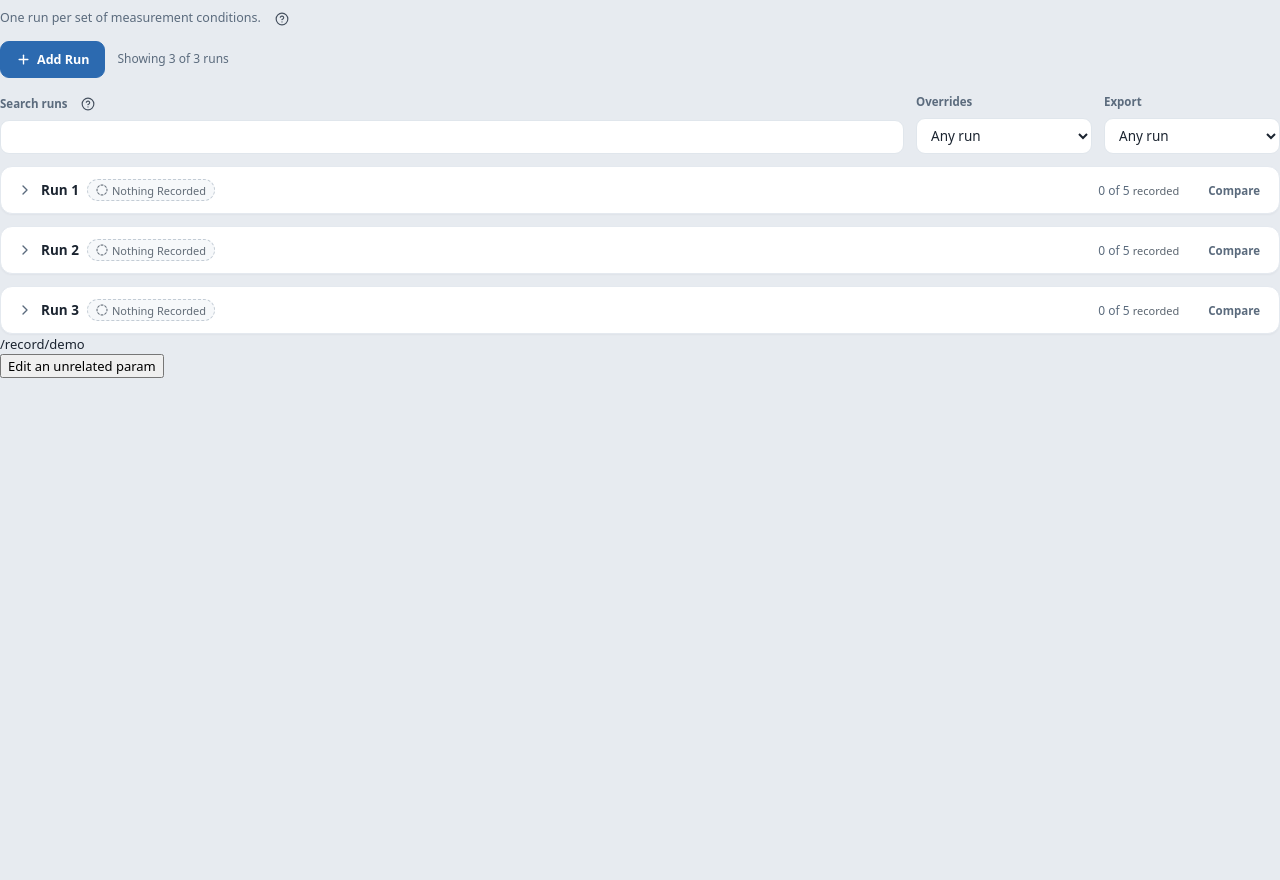
Test case: the request › removes the card, re-reads the list, and announces the SERVER’s count
Expected: the text "Showing 3 of 3 runs" is shown, [117,50,229,69]
What coordinates should you click on to do the following:
click the button named "Open "
I would click on:
 (33, 259)
Its box is [1,227,1195,273].
(page scrolled)
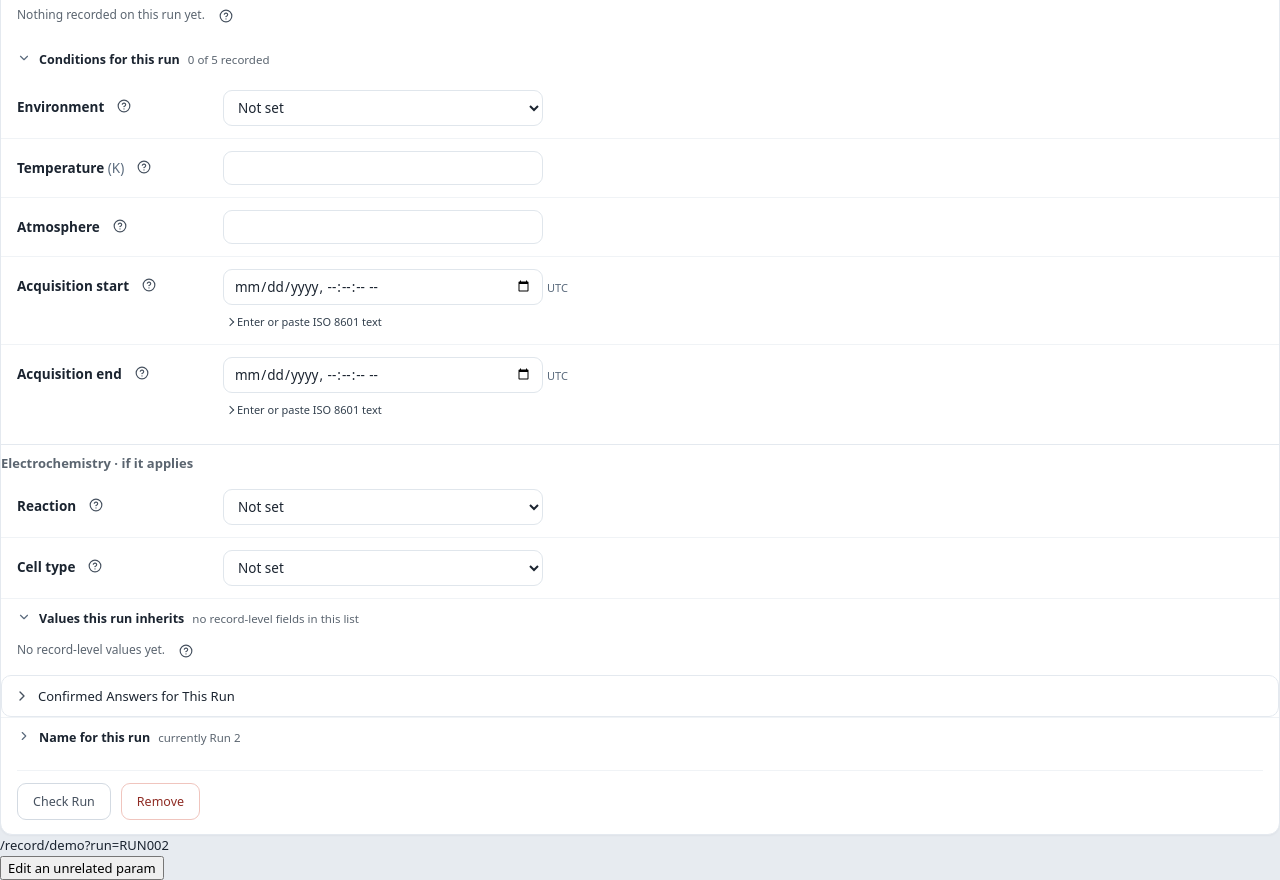
What coordinates should you click on to do the following:
click the button with aria-label "Remove run Run 2 from this record"
I would click on:
 (160, 802)
Its box is [121,783,200,820].
(page scrolled)
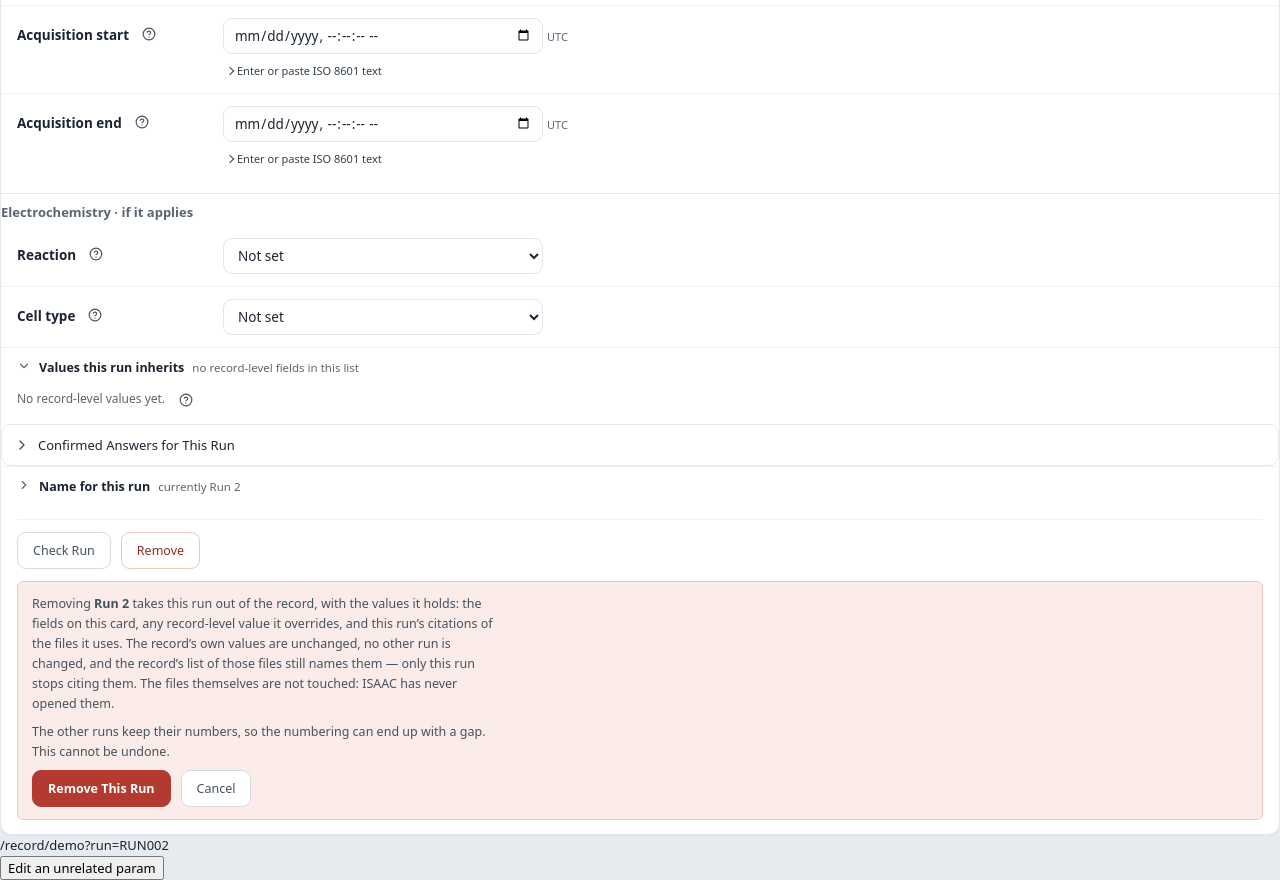
What coordinates should you click on to do the following:
click the button "Remove This Run"
I would click on:
 (101, 789)
Its box is [32,770,171,807].
(page scrolled)
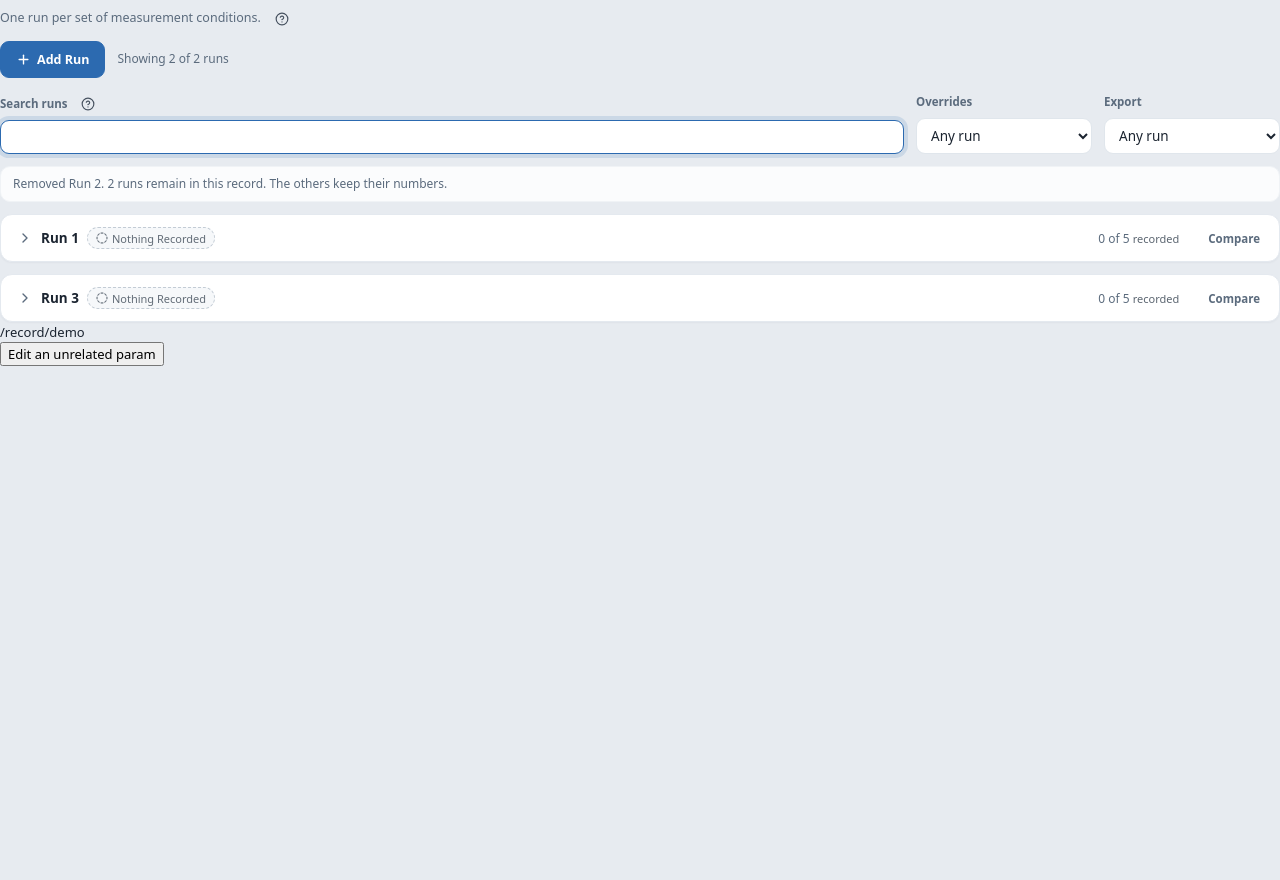
Result: the text "Removed Run 2. 2 runs remain in this record. The others keep their numbers." is shown at [0,166,1279,202]
Result: the text with class "runs-count" shows "of 2" at [117,50,229,68]
